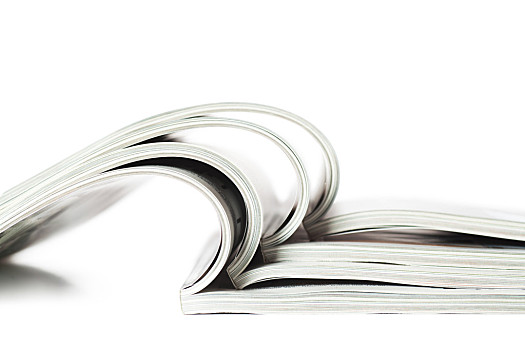book: (0, 139, 525, 318), (6, 113, 525, 289), (0, 100, 525, 248)
